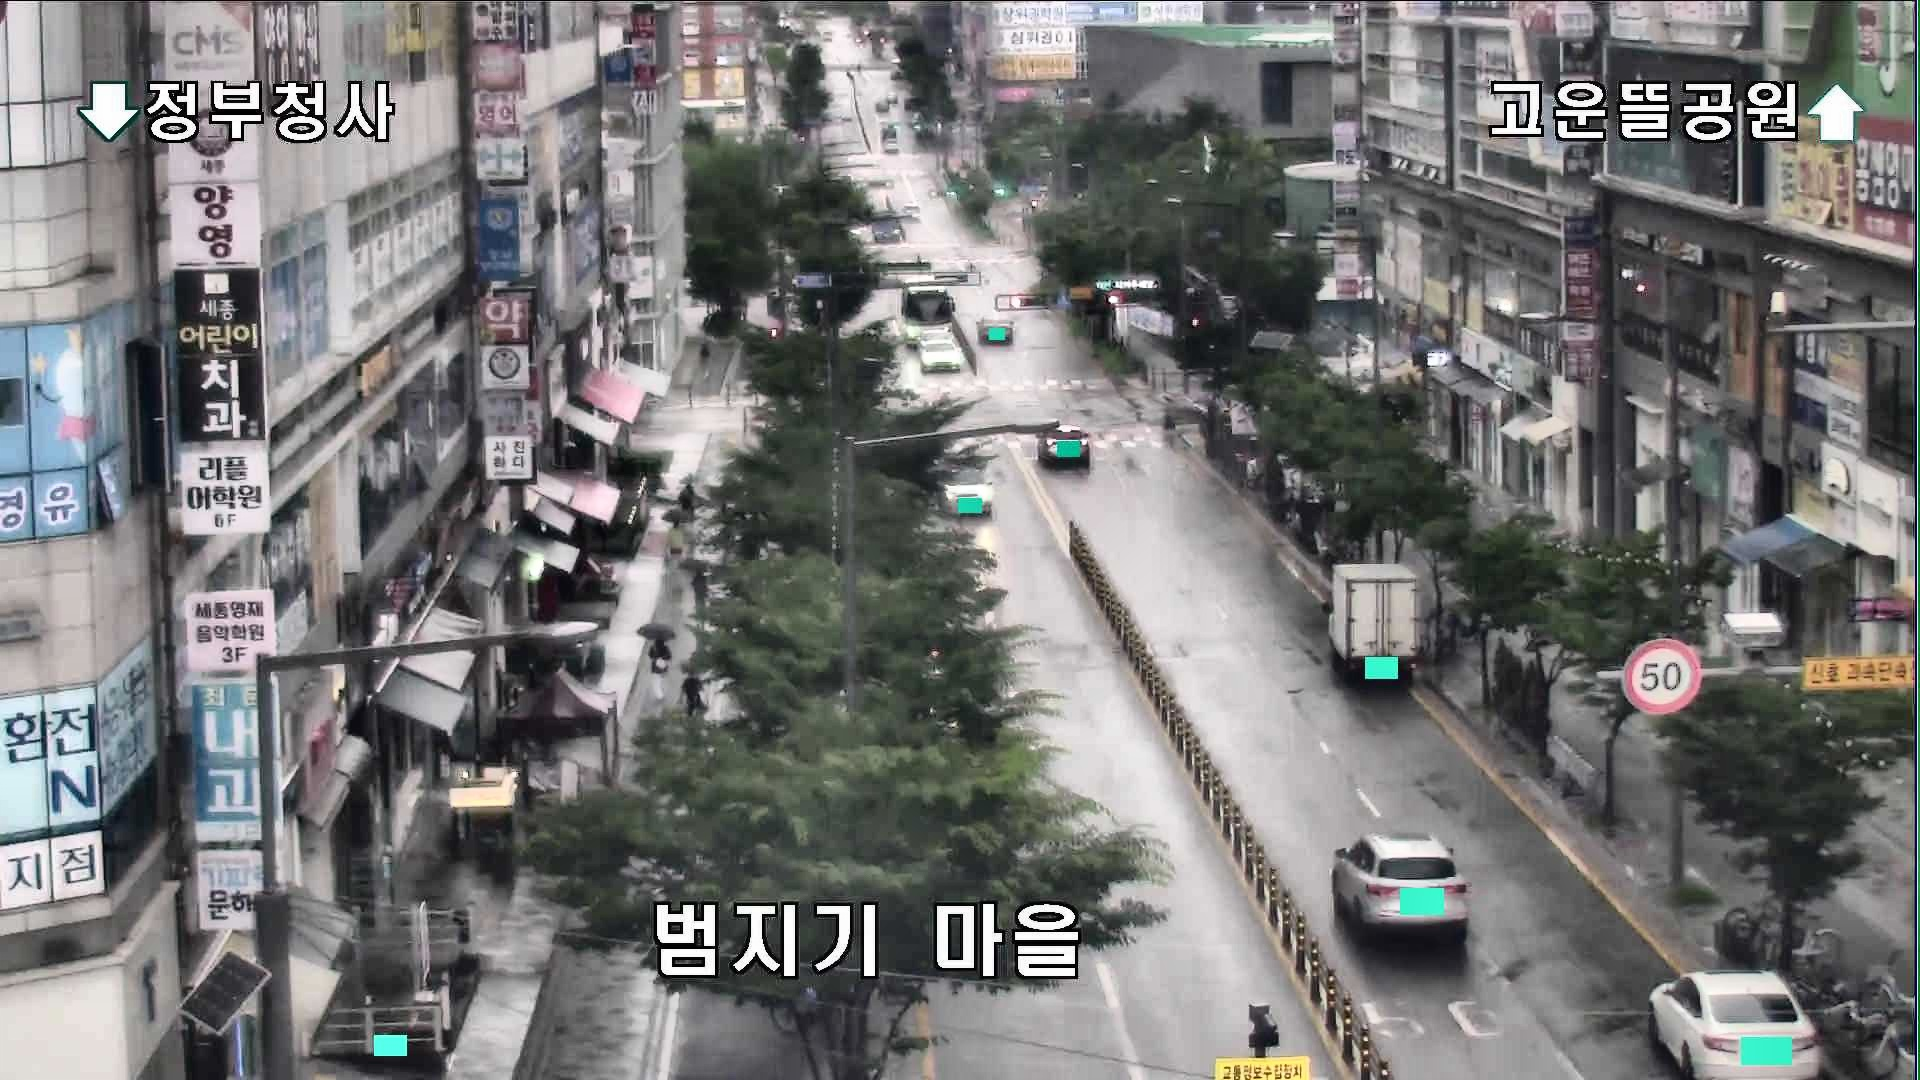um_crosswalk: (1159, 392, 1184, 442)
um_sidewalk: (636, 626, 676, 705), (675, 661, 711, 732), (679, 559, 716, 626), (659, 509, 696, 571), (687, 334, 720, 378), (679, 475, 703, 516)
